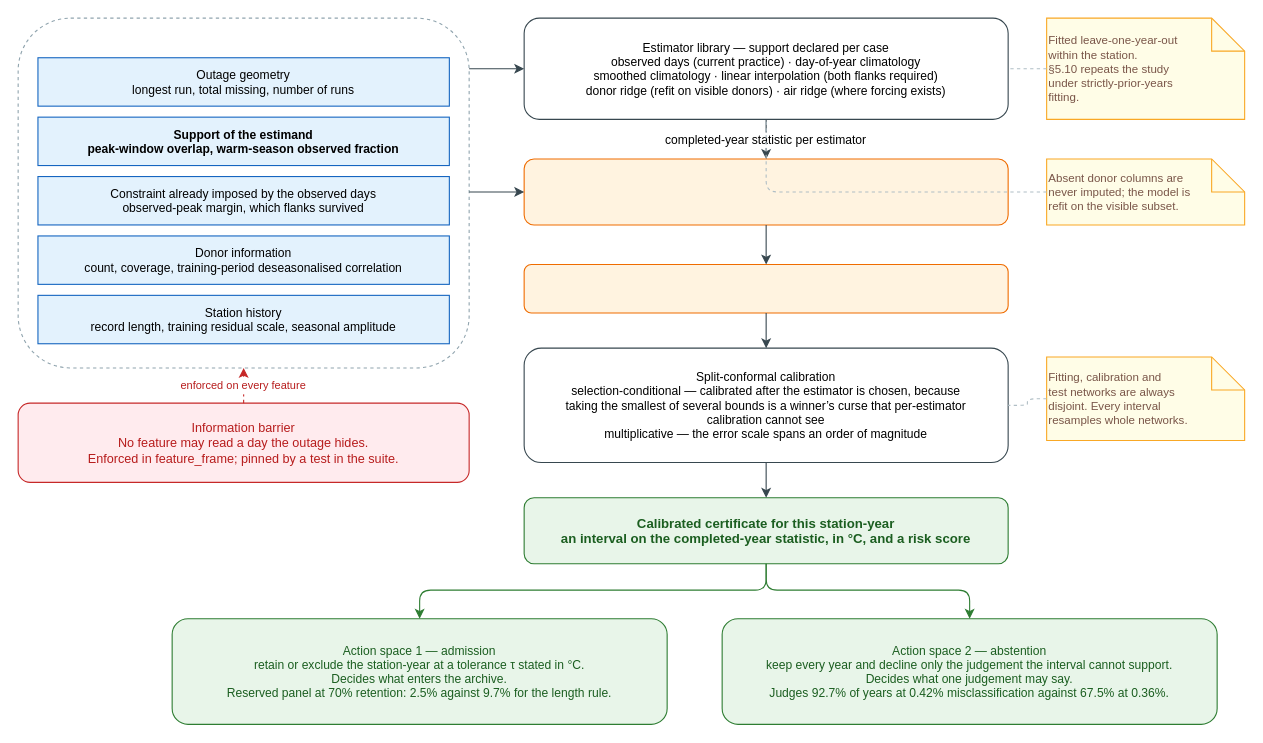
Some shapes in this 1263 by 743 pixel diagram are drawn without their labels. Here are the shapes that lost their labels. From the top down, the box of each, then its label:
(17, 17, 469, 368): Visible at decision time
(523, 158, 1008, 225): Risk model predicted upper bound on | q(ŷ) − q(y) | for each supported estimator
(523, 263, 1008, 313): Estimator selection — take the smallest bound
